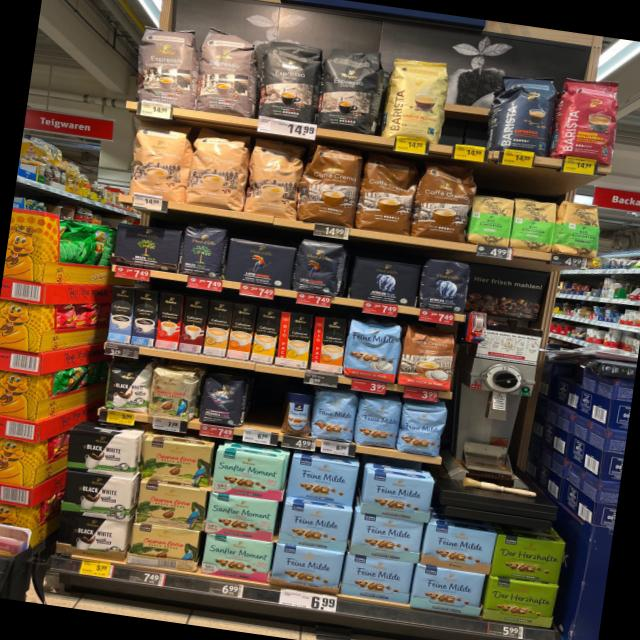AB Bohne: (418, 254, 473, 316)
AB Gemahlen: (348, 254, 423, 308)
Athiopien Bohne: (554, 200, 606, 260)
Athiopien Gemahlen: (466, 194, 515, 248), (509, 198, 558, 252)
BM Bohne: (178, 222, 230, 280)
BM Gemahlen: (110, 221, 183, 274)
BW Bohne: (99, 357, 154, 416)
BW Gemahlen: (63, 426, 140, 481), (59, 469, 134, 524), (52, 514, 130, 562)
Barista CB: (382, 56, 452, 145)
Barista Espresso: (489, 70, 561, 158)
Barista Kolumbien: (552, 76, 626, 166)
C Fino Bohne: (197, 373, 250, 430)
CC Mild: (125, 119, 194, 204), (184, 127, 252, 210), (242, 136, 304, 221)
CC Vollmundig: (398, 322, 460, 393)
CC Vollmundig 36 Pads: (295, 144, 364, 228), (409, 160, 476, 244), (354, 152, 420, 236)
Colombia BB Bohne: (146, 365, 200, 424)
Colombia BB Gemahlen: (138, 436, 215, 489), (133, 481, 209, 532), (128, 522, 202, 572)
Empty Shelf: (440, 64, 500, 148)
Espresso Aromatisch: (192, 26, 265, 119), (131, 23, 202, 110)
Espresso Kraftig: (314, 43, 388, 134), (254, 36, 326, 126)
FM 36 Pads: (341, 316, 404, 385)
FM Bohne: (309, 387, 362, 445), (396, 401, 448, 460), (354, 394, 404, 450)
FM Gemahlen: (410, 564, 486, 618), (350, 512, 425, 564), (340, 554, 415, 606), (421, 523, 497, 574), (270, 542, 344, 594), (360, 471, 434, 523), (278, 502, 352, 552), (288, 456, 359, 506)
FM Instant: (280, 388, 316, 438)
Herzhatfe Mundig: (483, 576, 559, 628), (491, 534, 565, 585)
LG Bohne: (292, 236, 349, 298)
LG Gemahlen: (224, 236, 298, 290)
SM Gemahlen: (210, 448, 286, 502), (200, 533, 274, 585), (204, 492, 279, 542)
Simo CCMild: (275, 311, 312, 369)
Simo CCMild bigpack: (251, 306, 282, 364)
Simo CCVollmundig: (310, 317, 348, 374)
Simo CCVollmundig bigpack: (226, 303, 257, 361)
Simo Decaff: (203, 300, 233, 357)
Simo Es Brazil: (155, 292, 183, 350)
Simo Es Caramel: (179, 296, 209, 354)
Simo Es Kraft: (131, 289, 160, 347)
Simo Es Vanilla: (106, 285, 136, 344)
